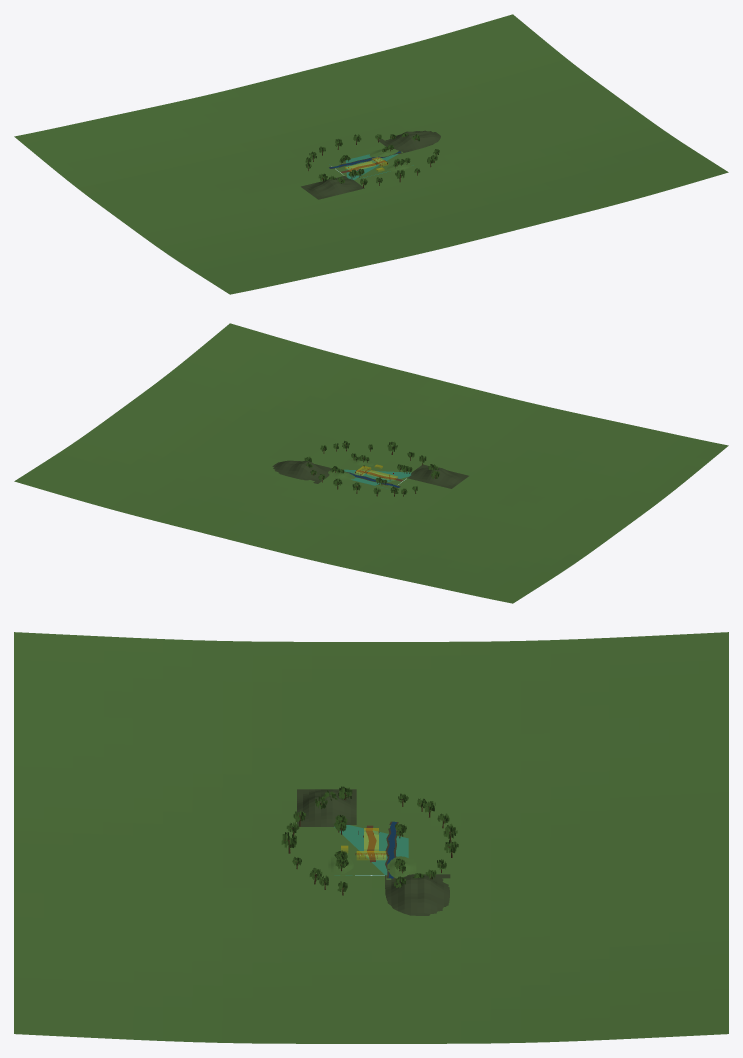
File: battlefield.obj
3 views of the same model, one above another, from view 1: azimuth 30°, elevation 25°; view 2: azimuth 150°, elevation 25°; view 3: azimuth 270°, elevation 25° (orthographic). The views are drawn at different scales.
Parts seen in each view (by area): view 1: surrounding_landscape, battlefield_terrain, outer_ridge_east, outer_ridge_west; view 2: surrounding_landscape, battlefield_terrain, outer_ridge_east, outer_ridge_west; view 3: surrounding_landscape, battlefield_terrain, outer_ridge_east, outer_ridge_west, terrain_col.
Part boxes in pixels (<box>): surrounding_landscape: <box>14,14,728,294</box>; battlefield_terrain: <box>329,154,413,179</box>; outer_ridge_east: <box>377,130,440,153</box>; outer_ridge_west: <box>301,176,364,199</box>; surrounding_landscape: <box>14,323,728,603</box>; battlefield_terrain: <box>338,458,411,489</box>; outer_ridge_east: <box>272,460,331,483</box>; outer_ridge_west: <box>407,464,468,488</box>; surrounding_landscape: <box>14,632,728,1043</box>; battlefield_terrain: <box>334,825,408,875</box>; outer_ridge_east: <box>385,874,450,915</box>; outer_ridge_west: <box>297,789,356,826</box>; terrain_col: <box>340,825,408,874</box>.
Bounding box in the file's own units: 640 × 15.27 × 480.
